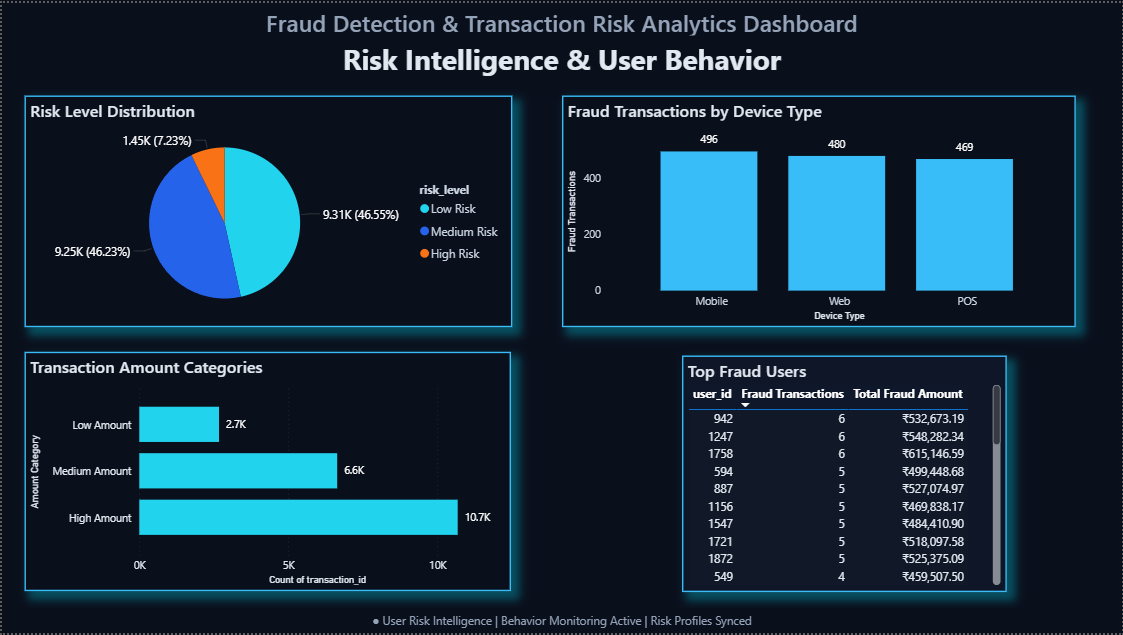

This screenshot's page, from the dashboard's own definition file:
{"tool":"powerbi","page":{"name":"Risk Intelligence & User Behavior","canvas":[1280,720],"ordinal":2},"visuals":[{"type":"textbox","box":[0,0,1280,47.5],"z":0},{"type":"textbox","box":[0,37.1,1280,54.3],"z":4000},{"type":"pieChart","title":"Risk Level Distribution","fields":{"Category":["fraud_dashboard_dataset.risk_level"],"Y":["CountNonNull(fraud_dashboard_dataset.transaction_id)"]},"box":[26.2,106.2,557.5,265],"z":5000},{"type":"clusteredBarChart","title":"Transaction Amount Categories","fields":{"Category":["fraud_dashboard_dataset.amount_category"],"Y":["CountNonNull(fraud_dashboard_dataset.transaction_id)"]},"box":[26.2,398.8,556.2,273.8],"z":6000},{"type":"clusteredColumnChart","title":"Fraud Transactions by Device Type","fields":{"Category":["fraud_dashboard_dataset.device_type"],"Y":["fraud_dashboard_dataset.Fraud Transactions"]},"box":[640,106.2,587.5,265],"z":7000},{"type":"tableEx","title":"Top Fraud Users","fields":{"Values":["fraud_dashboard_dataset.user_id","fraud_dashboard_dataset.Fraud Transactions","fraud_dashboard_dataset.Total Fraud Amount"]},"box":[777.5,402.5,371.2,270],"z":8000},{"type":"textbox","box":[0,691.2,1280,28.8],"z":9000}]}

Visuals, with their boxes in screenshot pixels (x1, y1, x2, y2), scaled from the page's 1280x720 canvas onto the 1123x635 screenshot:
textbox: bbox=[0, 0, 1122, 42]
textbox: bbox=[0, 33, 1122, 81]
"Risk Level Distribution" pieChart: bbox=[23, 94, 512, 327]
"Transaction Amount Categories" clusteredBarChart: bbox=[23, 352, 511, 593]
"Fraud Transactions by Device Type" clusteredColumnChart: bbox=[562, 94, 1077, 327]
"Top Fraud Users" tableEx: bbox=[682, 355, 1008, 593]
textbox: bbox=[0, 610, 1122, 634]
